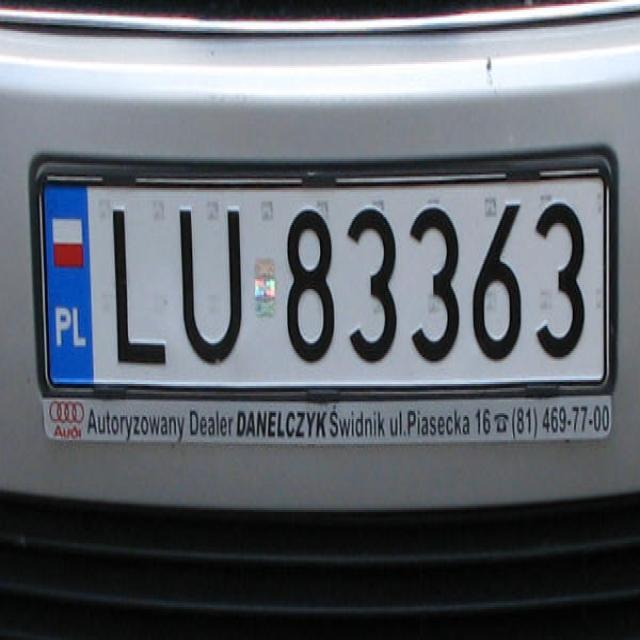pl_license_plate: (44, 178, 605, 382)
